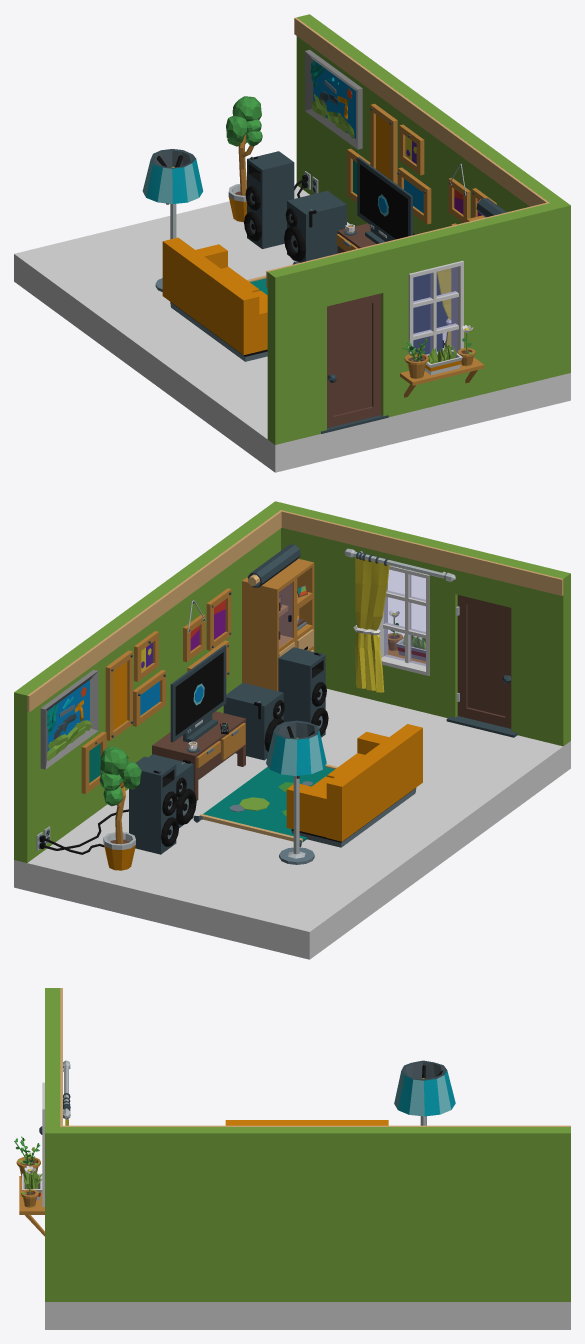
3 renders of one model, top to bottom at view 1: azimuth 30°, elevation 25°; view 2: azimuth 150°, elevation 25°; view 3: azimuth 270°, elevation 25°, orthographic.
Visible parts, largest first — view 1: node_MeshObject-118343680-PolyPaper21, node_MeshObject1025814528-PolyPaper23, node_MeshObject-1253753856-PolyPaper12, node_MeshObject1597893632-PolyPaper16, node_MeshObject453735424-PolyGlass24; view 2: node_MeshObject-118343680-PolyPaper21, node_MeshObject1025814528-PolyPaper23, node_MeshObject-1253753856-PolyPaper12, node_MeshObject453735424-PolyGlass24, node_MeshObject1597893632-PolyPaper16; view 3: node_MeshObject-1253753856-PolyPaper12, node_MeshObject-118343680-PolyPaper21, node_MeshObject1025814528-PolyPaper23, node_MeshObject1597893632-PolyPaper16.
Part boxes in pixels (box(x1,y1,x2,y2)): node_MeshObject-118343680-PolyPaper21: box(14, 50, 570, 472); node_MeshObject1025814528-PolyPaper23: box(142, 96, 557, 444); node_MeshObject-1253753856-PolyPaper12: box(162, 14, 570, 375); node_MeshObject1597893632-PolyPaper16: box(304, 160, 477, 383); node_MeshObject453735424-PolyGlass24: box(413, 267, 457, 355); node_MeshObject-118343680-PolyPaper21: box(14, 544, 570, 959); node_MeshObject1025814528-PolyPaper23: box(38, 504, 570, 870); node_MeshObject-1253753856-PolyPaper12: box(14, 501, 422, 862); node_MeshObject453735424-PolyGlass24: box(279, 570, 425, 665); node_MeshObject1597893632-PolyPaper16: box(36, 547, 518, 850); node_MeshObject-1253753856-PolyPaper12: box(45, 1120, 570, 1301); node_MeshObject-118343680-PolyPaper21: box(21, 1189, 570, 1329); node_MeshObject1025814528-PolyPaper23: box(19, 988, 455, 1214); node_MeshObject1597893632-PolyPaper16: box(14, 1013, 70, 1236).
Bounding box in the file's own units: 2.68 × 1.69 × 4.34.
